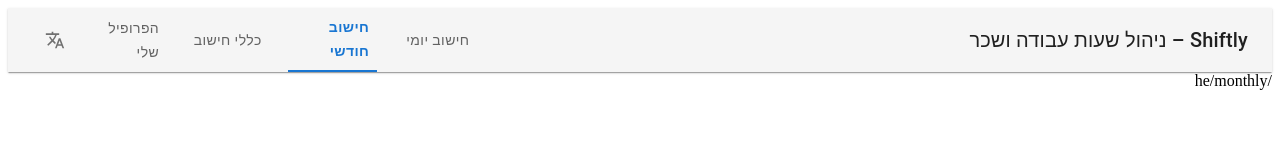
Test case: ViewSwitcher › Language toggle › keeps the page when toggling from rtl at /he/monthly
The image size is (1280, 160).
Click the button named "Switch to English". click: (55, 40)
box: [40,25,70,55]
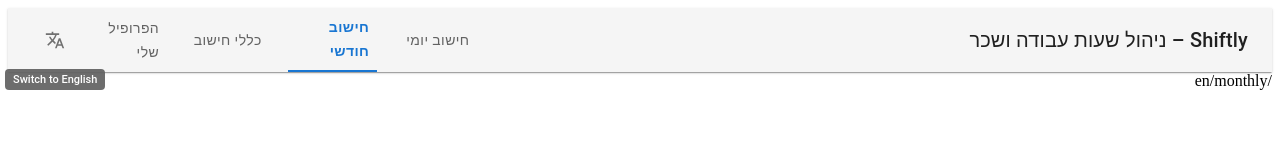
Now the text with test id "location" reads "/en/monthly", box [1195,72,1272,89]
